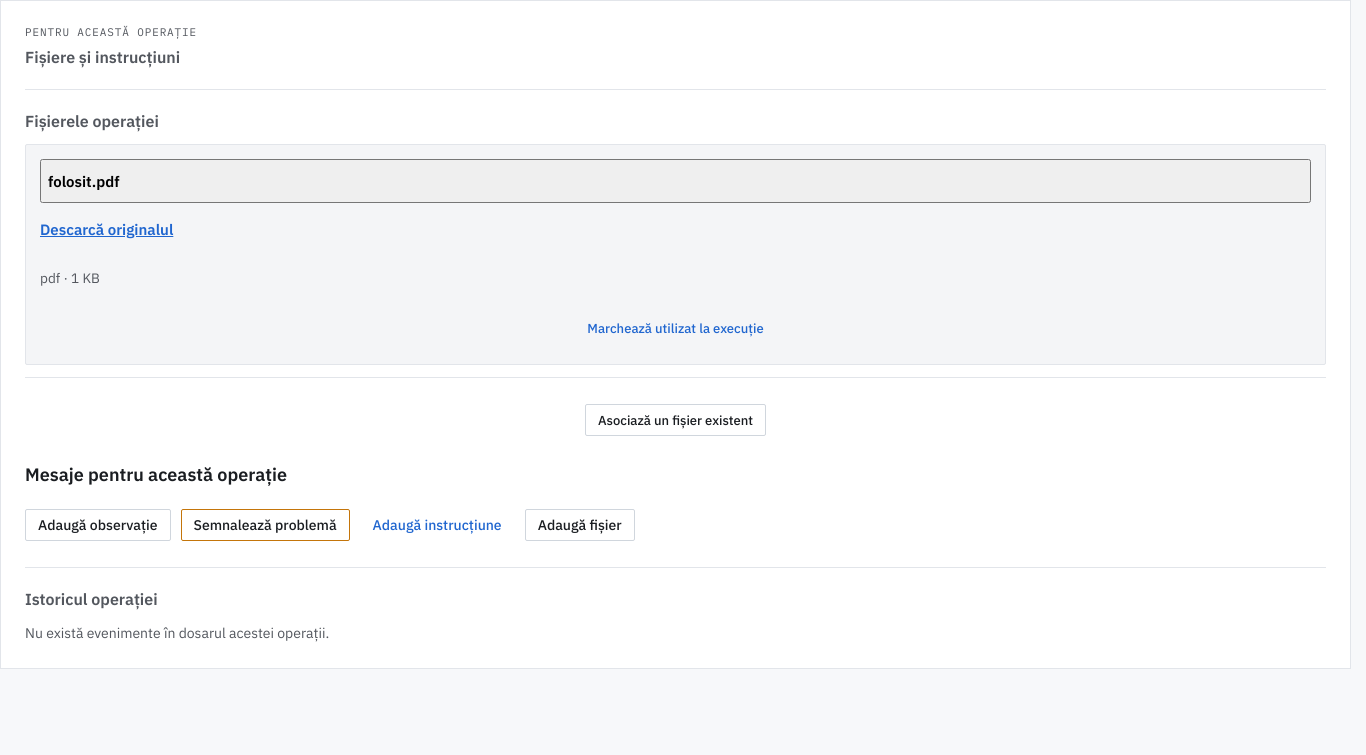
Test: TaskDossierPanel › shows assigned files in the job record and opens other files only for an explicit association
Expected: the button "folosit.pdf" is shown, [40,159,1311,203]
Expected: the button "alt-desen.pdf" is not shown
Click the button "Asociază un fișier existent" at {"x": 676, "y": 420}, box [25,398,1326,442]
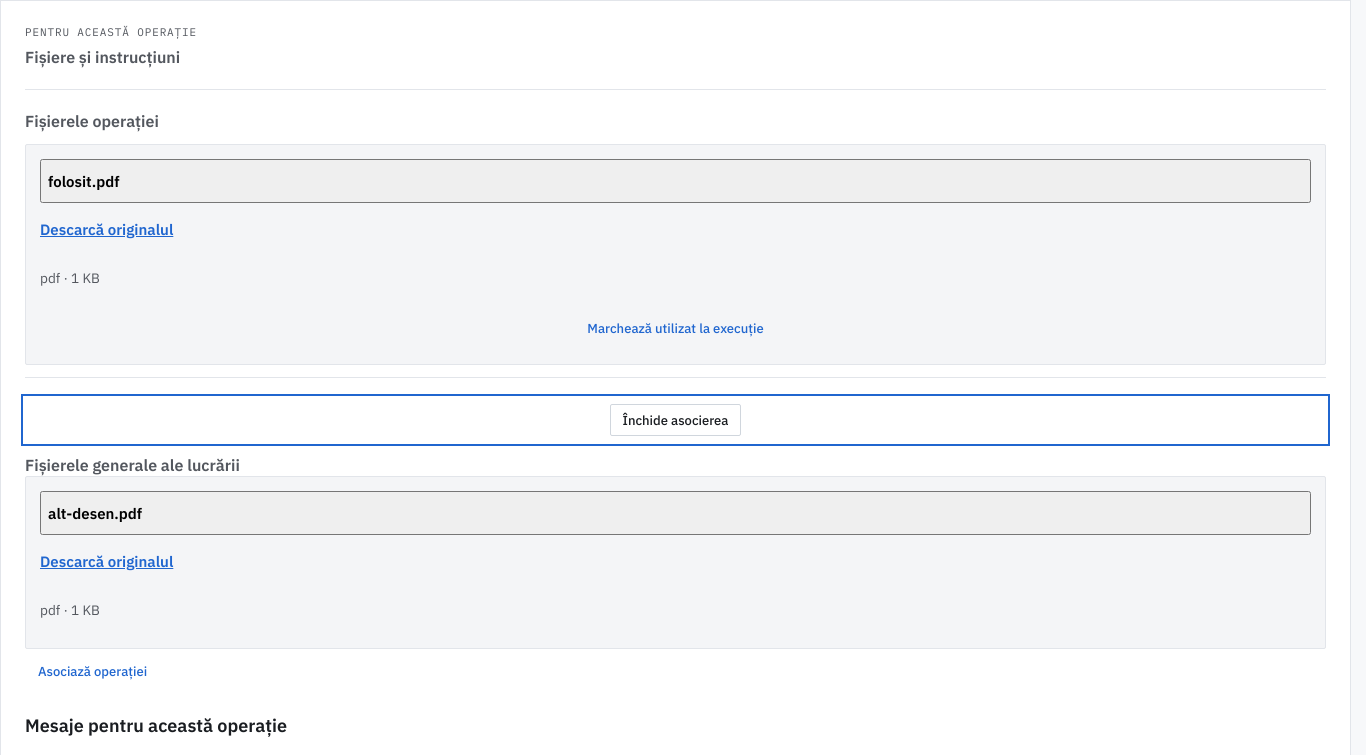
Result: the button "alt-desen.pdf" is shown at [40,492,1311,536]
Click the button "Închide asocierea" at {"x": 676, "y": 420}, box [25,398,1326,442]
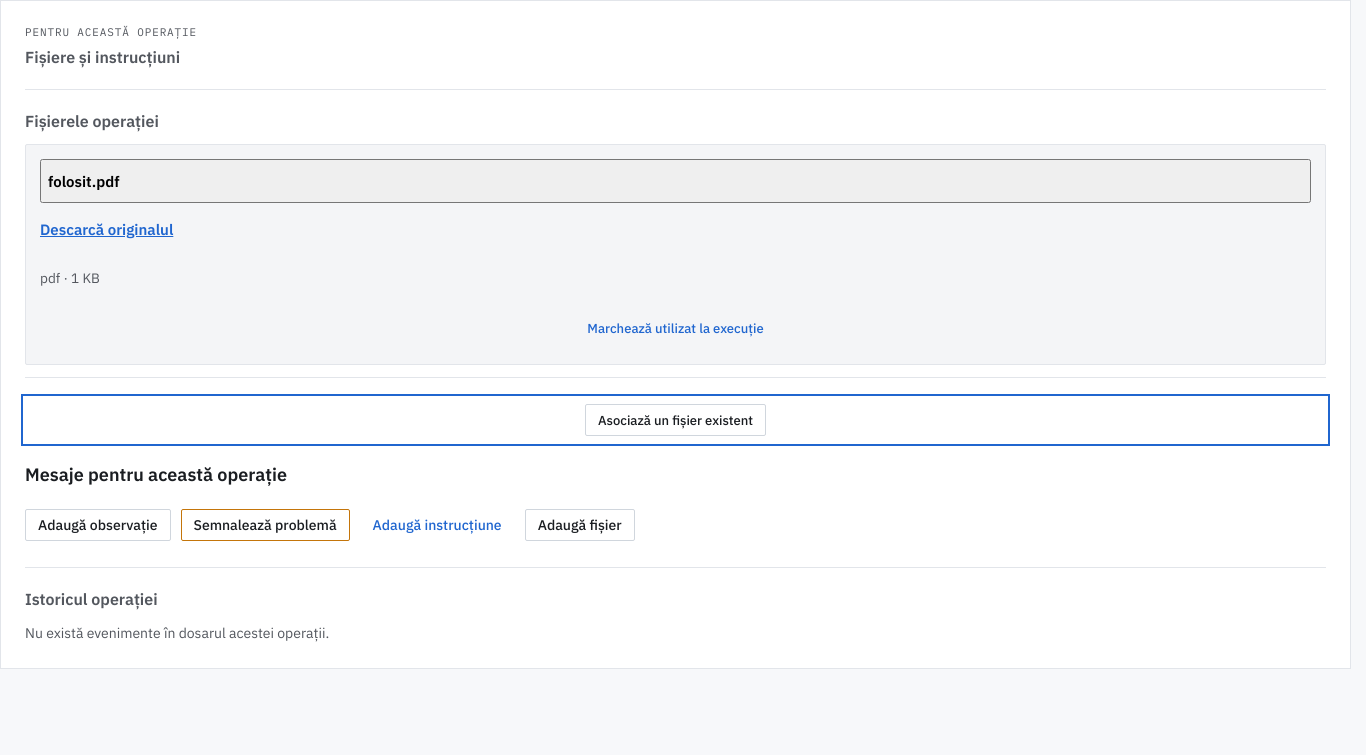
Result: the button "alt-desen.pdf" is gone
